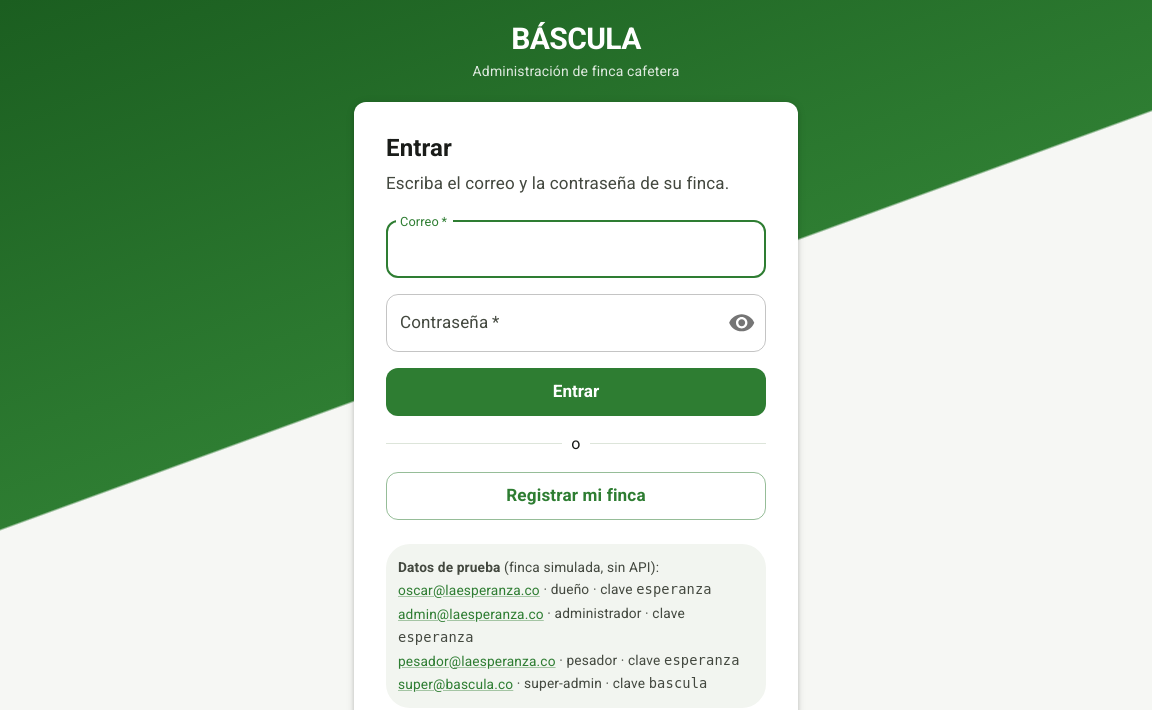
LoginPage — where it goes after a password › goes to the page the person was trying to open
Type "oscar@laesperanza.co" into the field labelled "Correo *" at (576, 249), box [386,221,766,278]
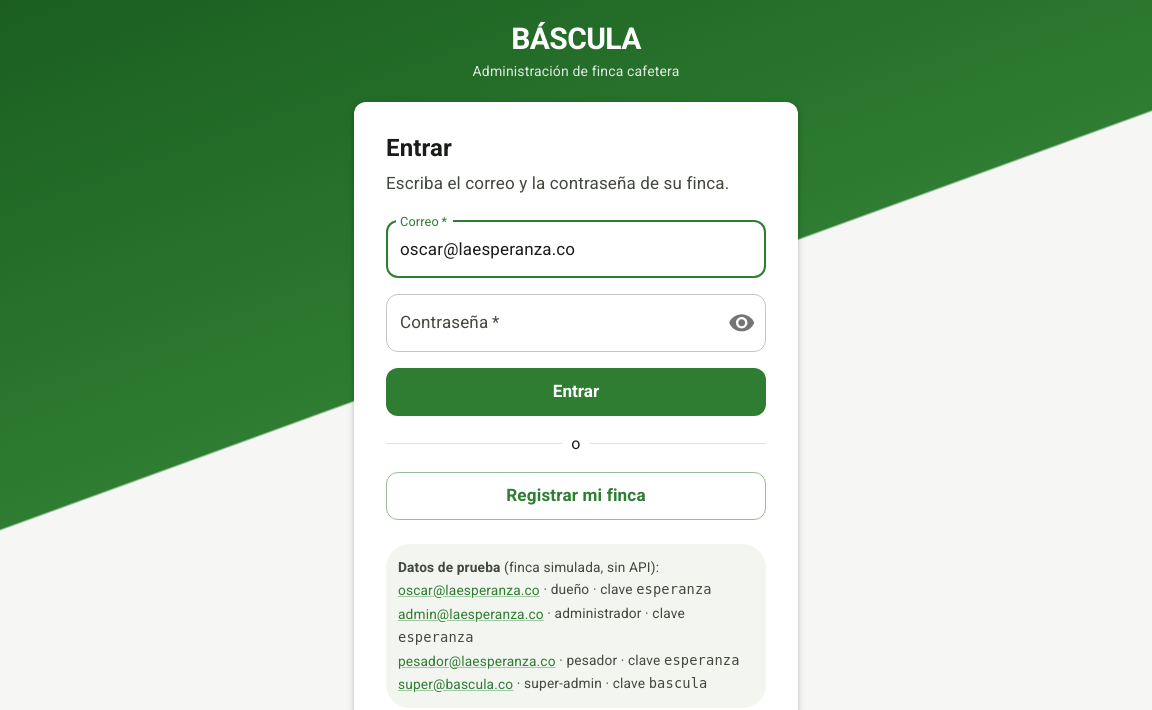
Type "esperanza" into the password field labelled "Contraseña *" at (549, 323), box [386,294,712,352]
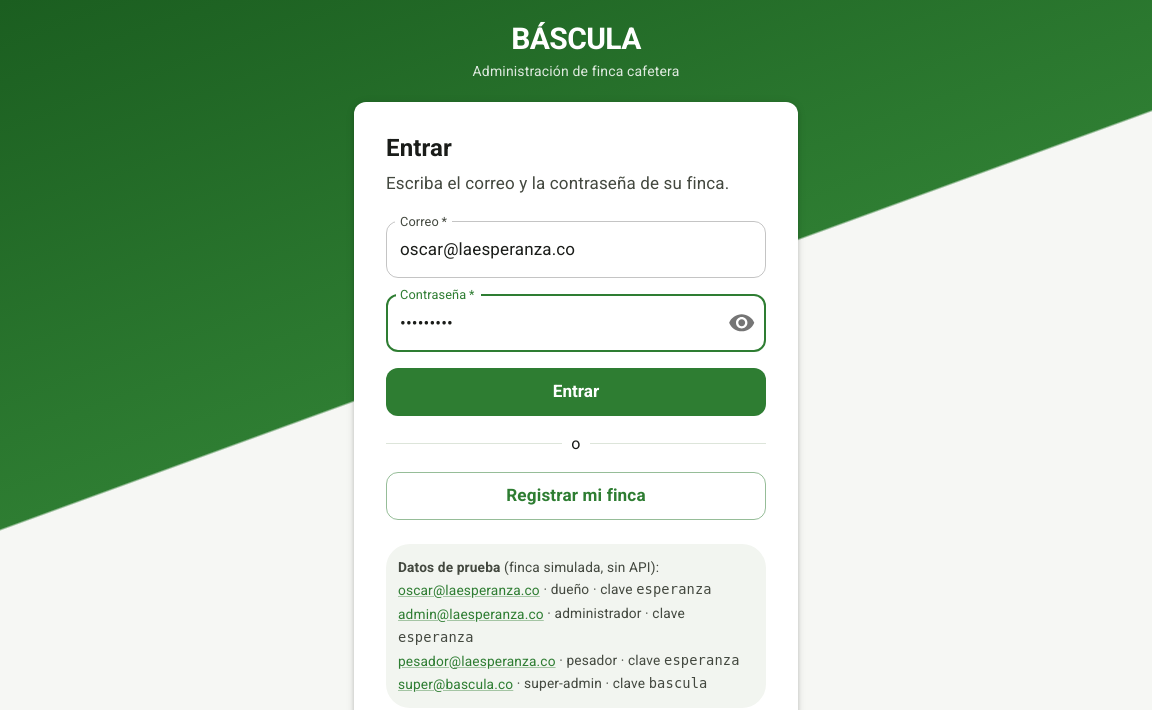
Click the button "Entrar" at (576, 392), box [386,368,766,416]
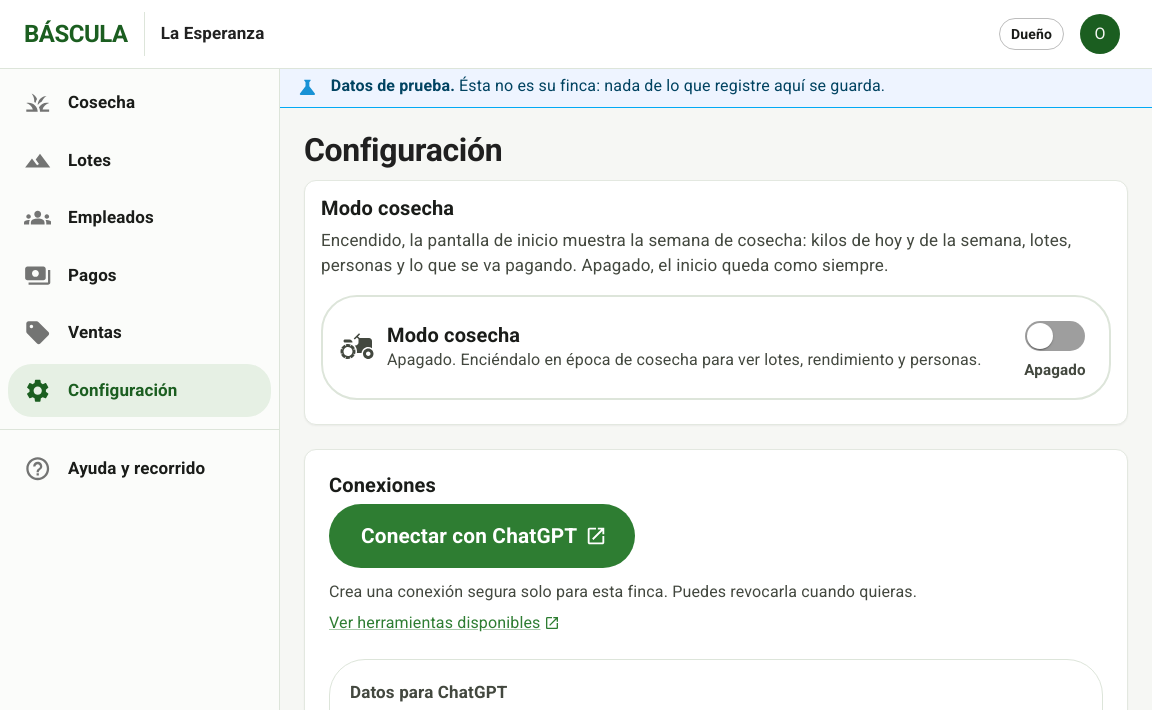
Now the heading "Configuración" is shown, box [304,131,502,169]
